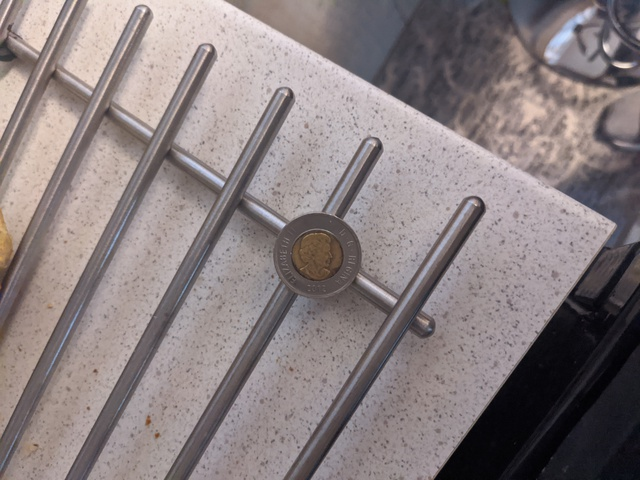twonie: (274, 204, 369, 304)
